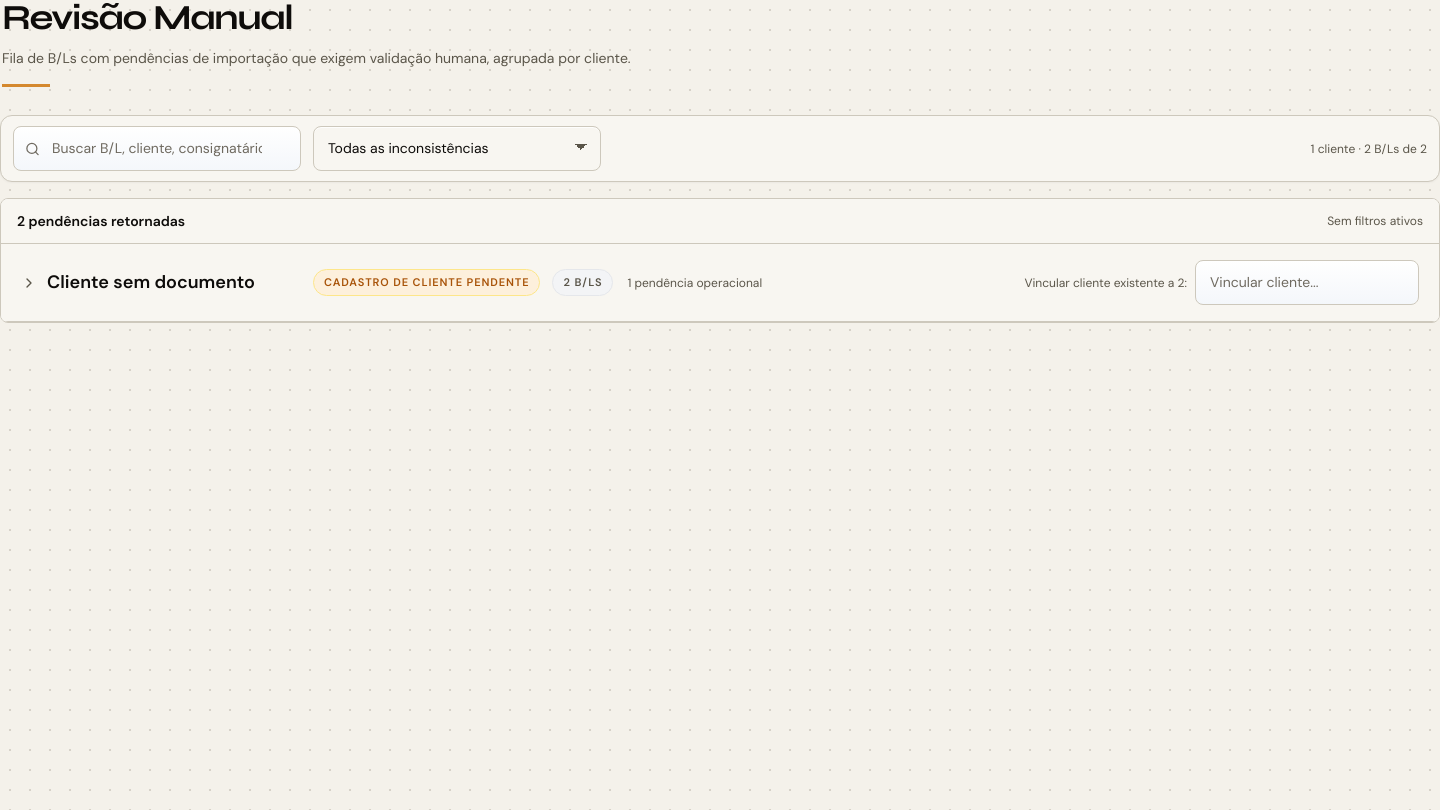
Test: Revisao › mantém onboarding e vínculo existente em grupo misto sem CNPJ
Click the button "Cliente sem documento" at (161, 282), box 21,262 -> 301,302
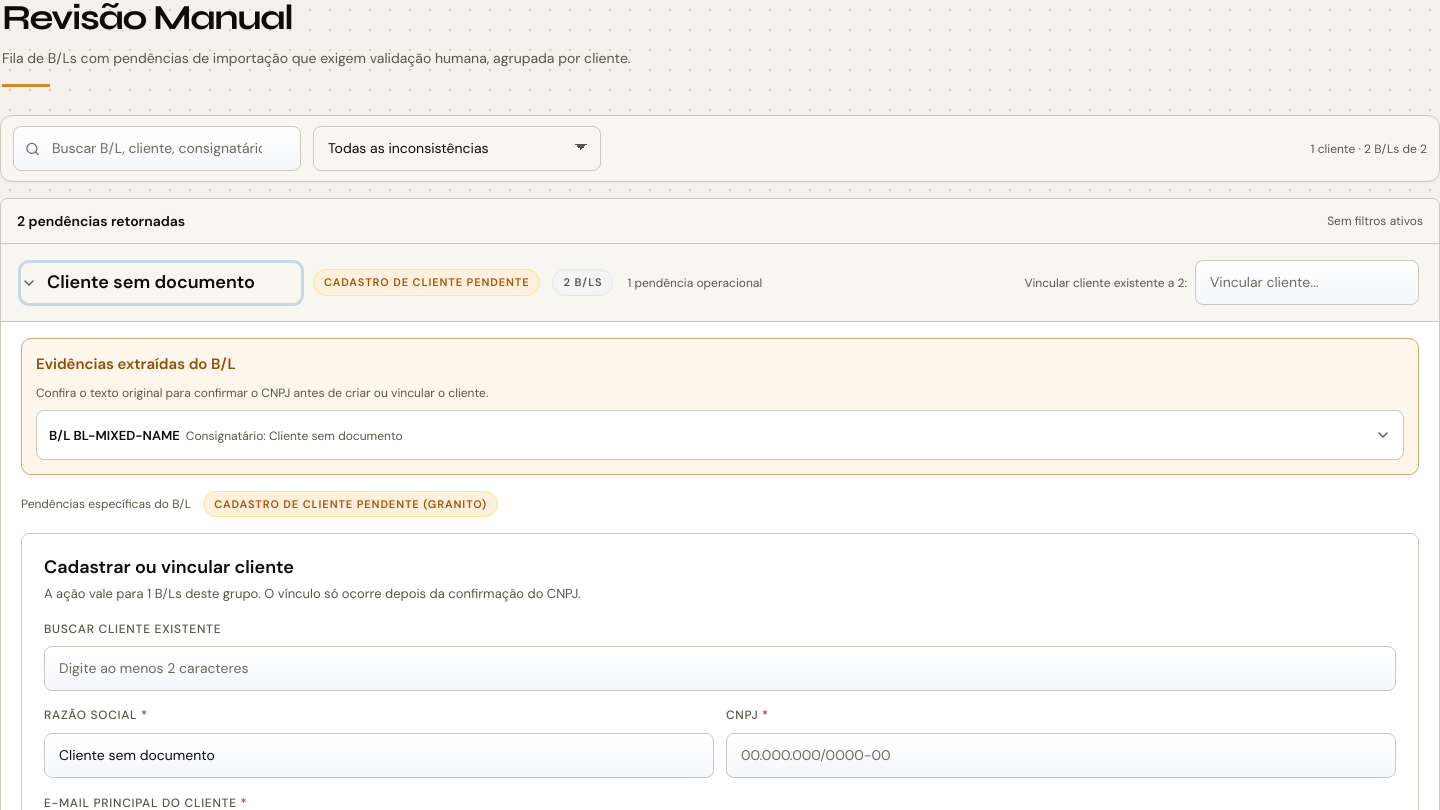
Expected: the field with placeholder "Vincular cliente..." is shown, 1195,260 -> 1419,305
Now the text "Cadastrar ou vincular cliente" is shown, box 44,555 -> 294,579
